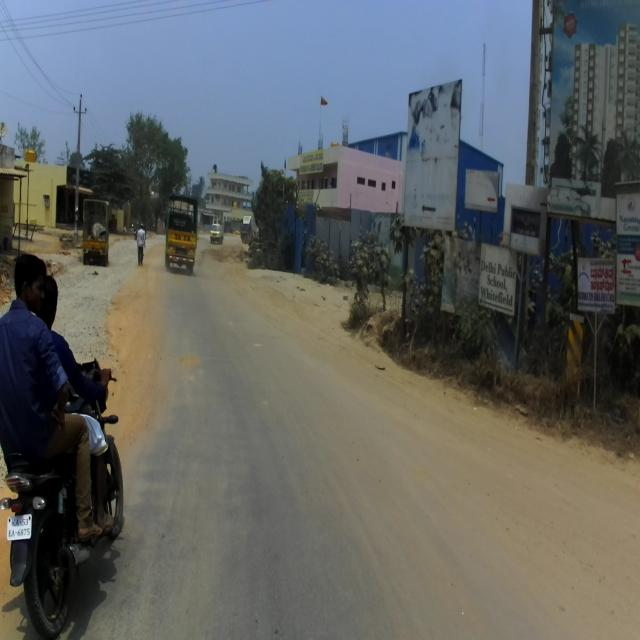motorcycle ahead at: (0, 465, 85, 640)
truck ahead at: (162, 186, 198, 273)
